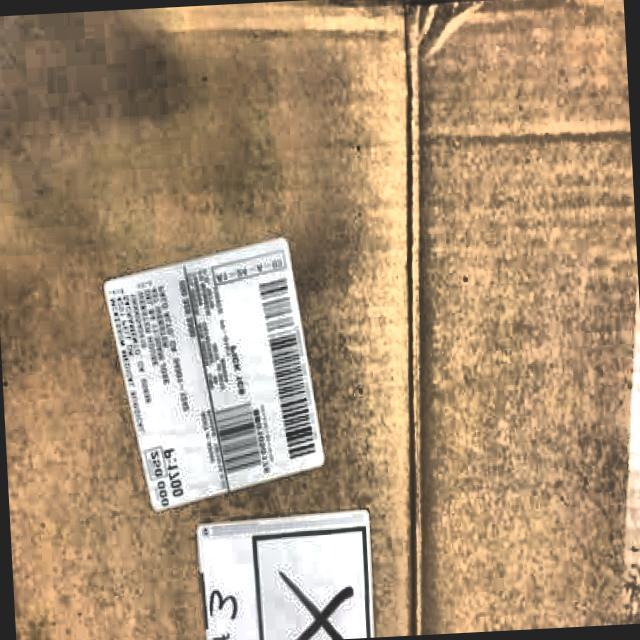cardboard: (379, 0, 640, 633), (102, 233, 328, 514)
